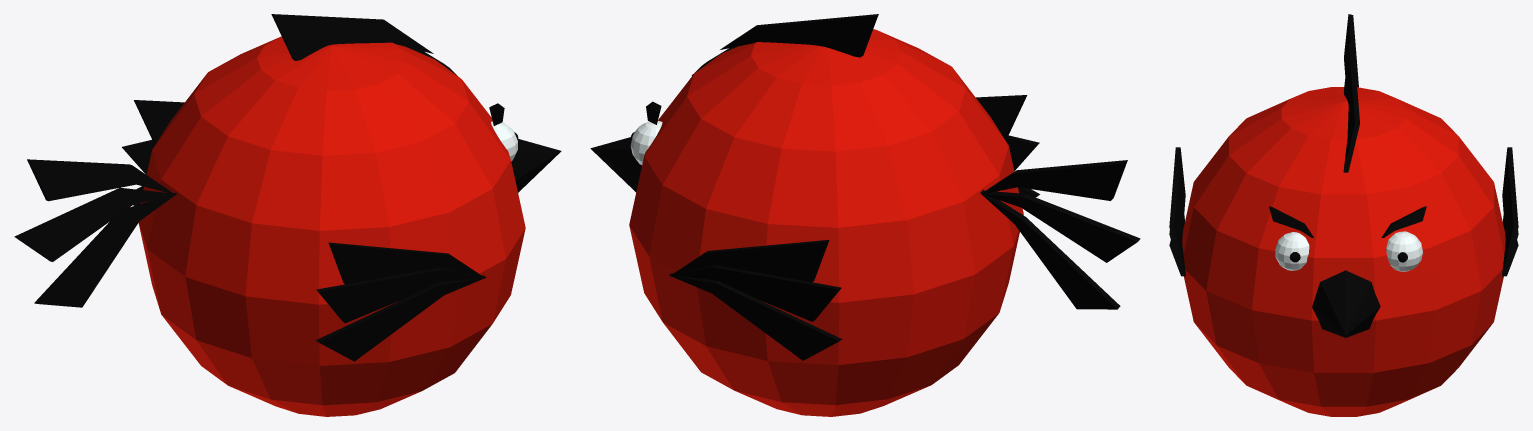
Rendered from bird_lowPoly.fbx.
3 views of the same model, side by side, from view 1: azimuth 30°, elevation 25°; view 2: azimuth 150°, elevation 25°; view 3: azimuth 270°, elevation 25° (orthographic). The views are drawn at different scales.
Parts seen in each view (by area): view 1: Cone, Sphere.004, Sphere.001, Sphere.005, Sphere.003, Sphere.002; view 2: Cone, Sphere.003, Sphere.004, Sphere.005, Sphere.001, Sphere.000; view 3: Cone, Sphere.000, Sphere.002, Sphere.003, Sphere.001, Sphere.005, Sphere.004.
Boxes of the visible parts, x1,y1,x2,y2 form: Cone: [138, 36, 561, 416]; Sphere.004: [14, 159, 177, 307]; Sphere.001: [316, 242, 486, 361]; Sphere.005: [271, 14, 433, 60]; Sphere.003: [122, 100, 184, 205]; Sphere.002: [489, 103, 518, 161]; Cone: [590, 29, 1023, 416]; Sphere.003: [669, 239, 841, 360]; Sphere.004: [980, 160, 1140, 309]; Sphere.005: [720, 14, 878, 57]; Sphere.001: [976, 95, 1039, 197]; Sphere.000: [630, 101, 662, 164]; Cone: [1182, 87, 1505, 416]; Sphere.000: [1381, 206, 1426, 271]; Sphere.002: [1269, 206, 1313, 270]; Sphere.003: [1502, 147, 1518, 276]; Sphere.001: [1169, 147, 1185, 276]; Sphere.005: [1343, 44, 1359, 172]; Sphere.004: [1344, 14, 1358, 87].
Bounding box in the file's own units: 322 × 223 × 211.
